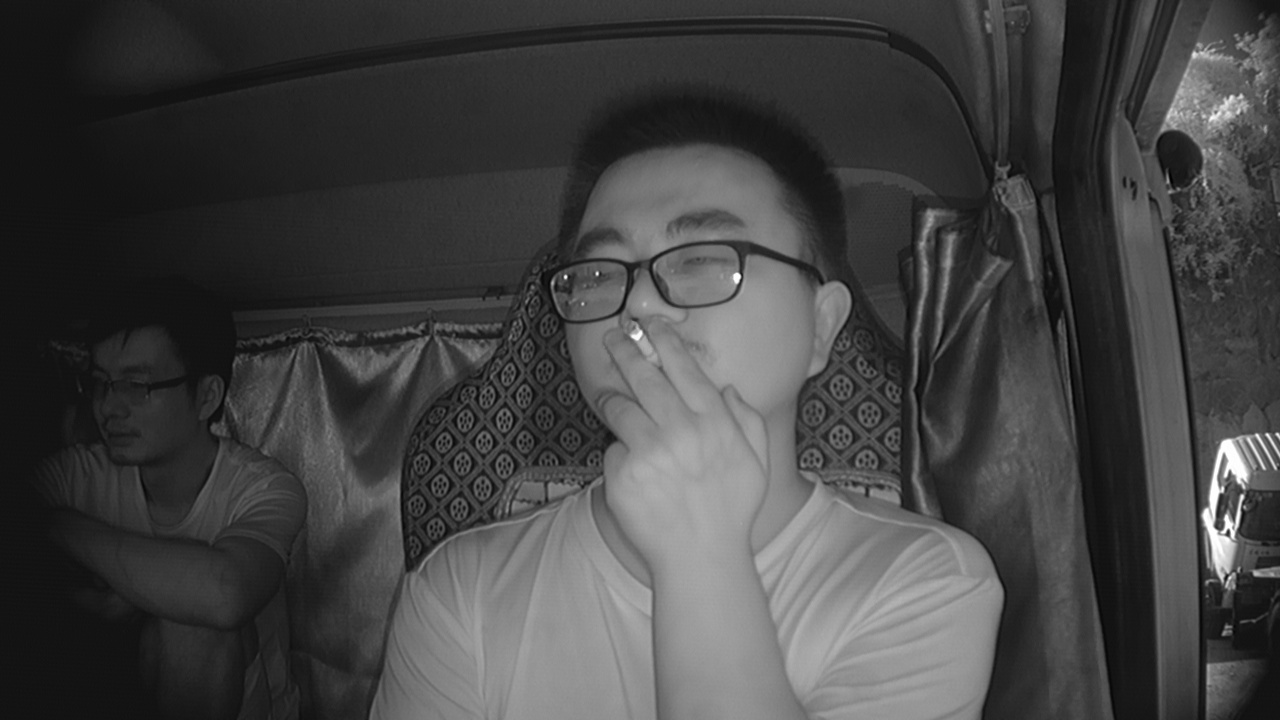hand: (595, 330, 777, 545)
